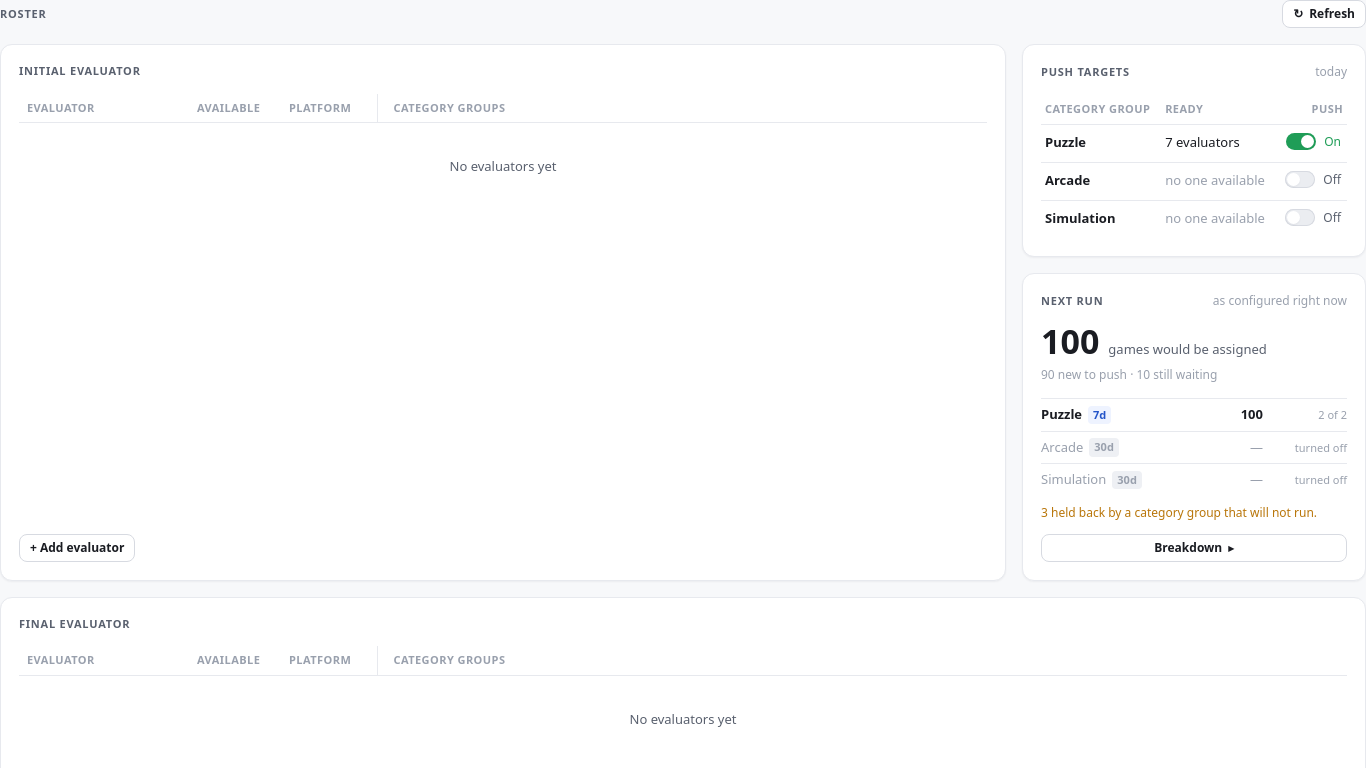
Test case: AssignSetup next-run panel › breakdown opens a modal with a tab per genre and the crew behind the total
Click the button "Breakdown ▸".
click(1194, 548)  # box [1041,534,1347,562]
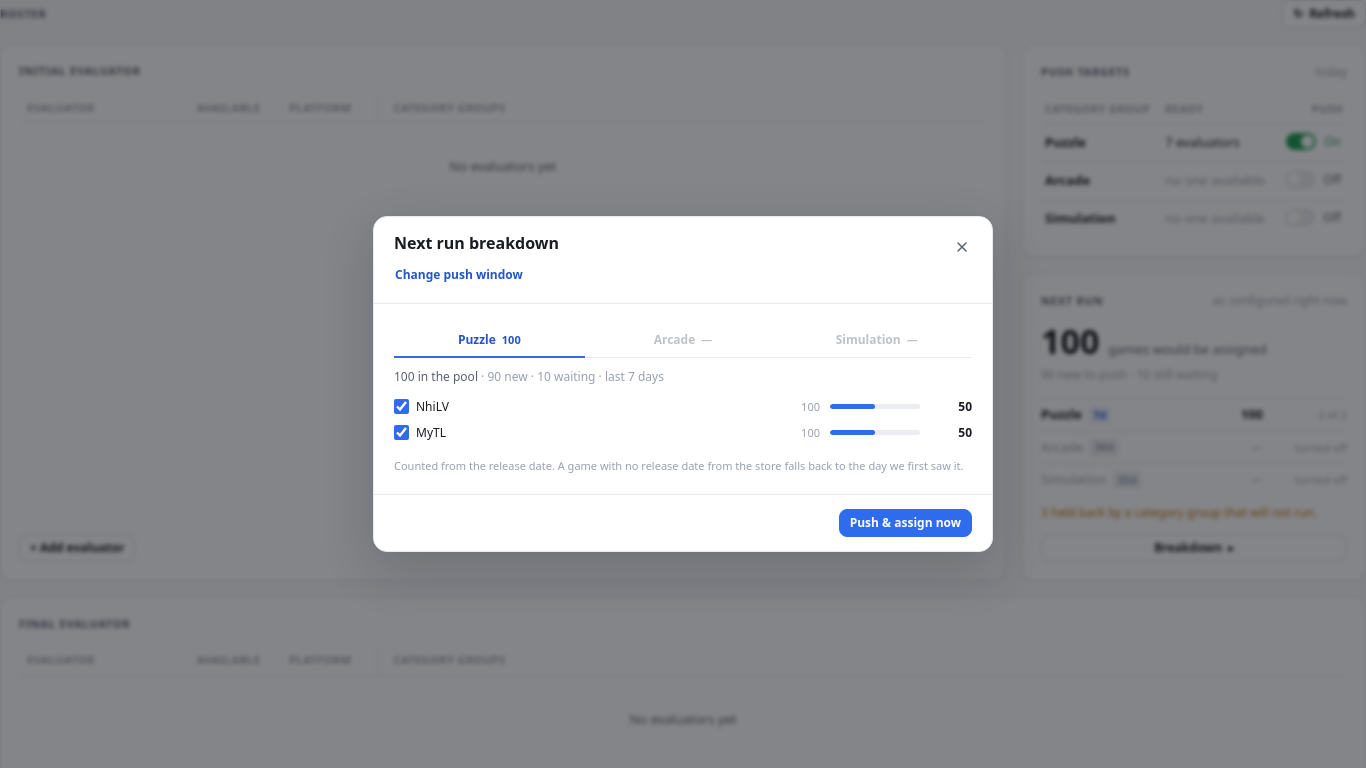
Check: the dialog "Next run breakdown" is shown, box [373,216,993,552]
Check: the number of tabs is 3, box [394,324,585,358]; [588,324,778,358]; [781,324,972,358]
Check: the text "NhiLV" is shown, box [416,398,449,416]
